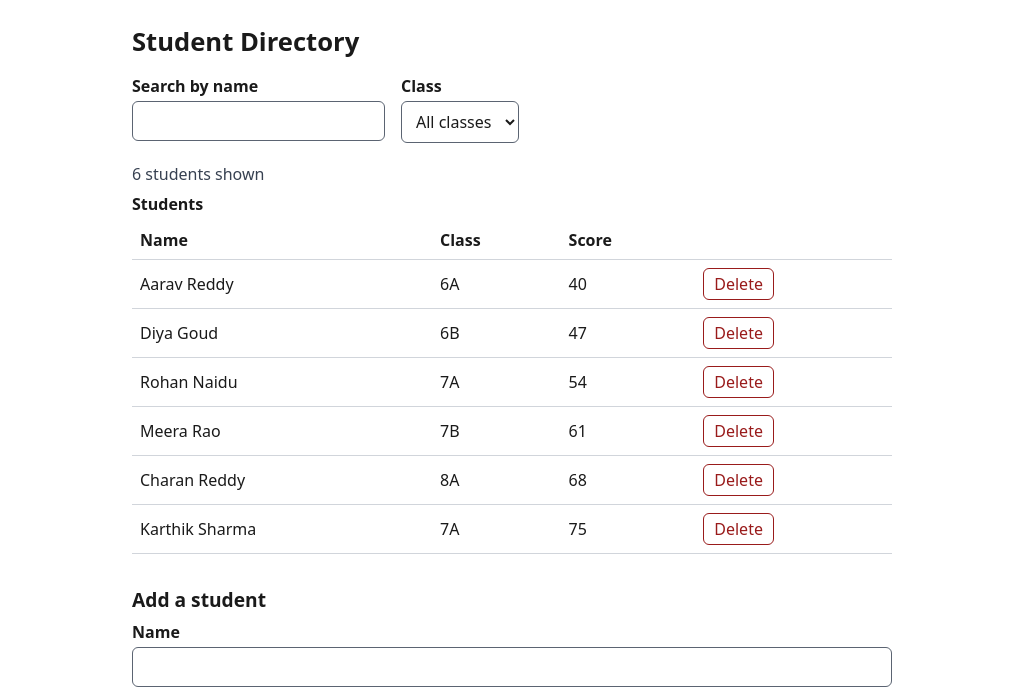
Test: deleting a student › deletes, announces it, and the row goes
Expected: the table is shown, [132, 193, 892, 554]
Click the button with aria-label "Delete Diya Goud": (739,333) [703, 317, 774, 349]
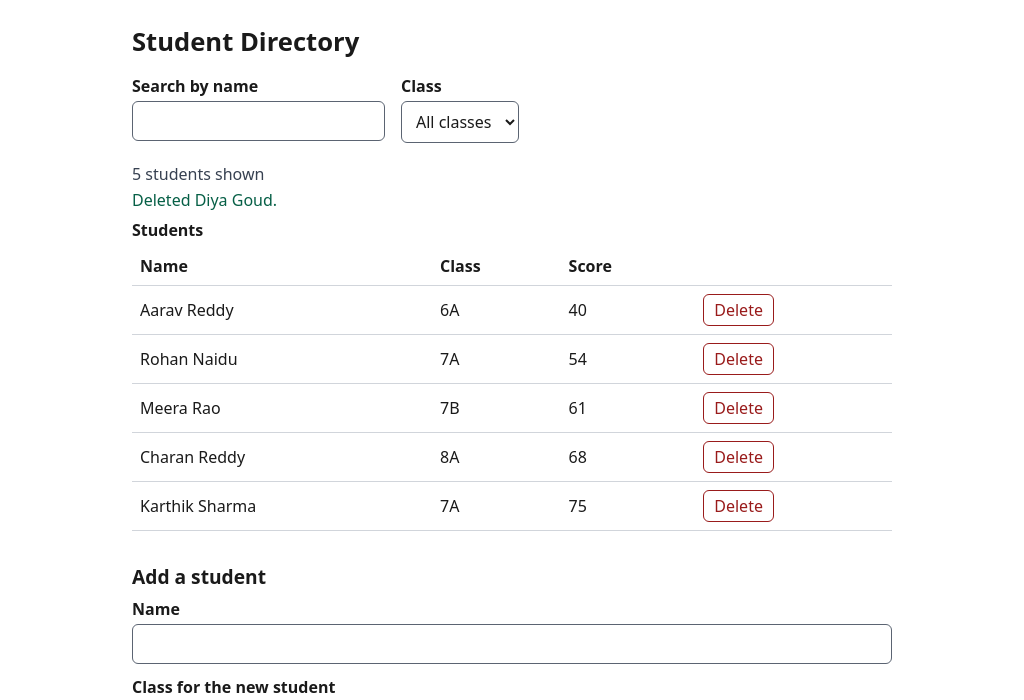
Expected: the text "Diya Goud" is not shown
Expected: the text "Deleted Diya Goud." is shown, [132, 189, 277, 211]
